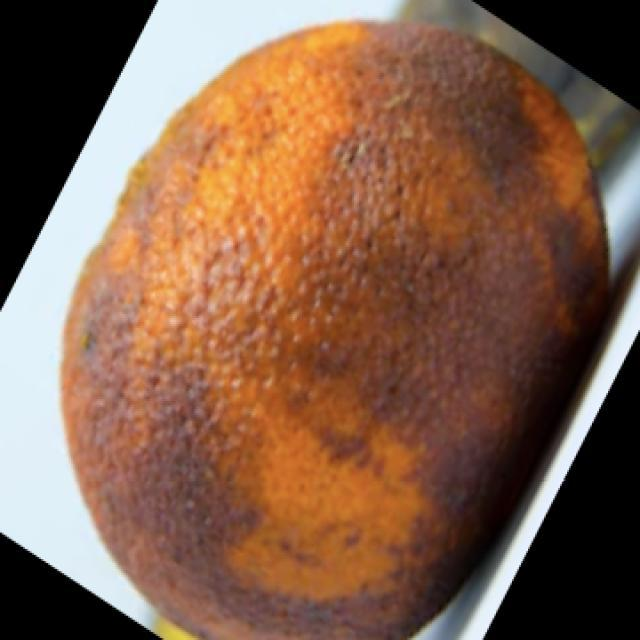sedikit-busuk: (62, 23, 606, 639)
